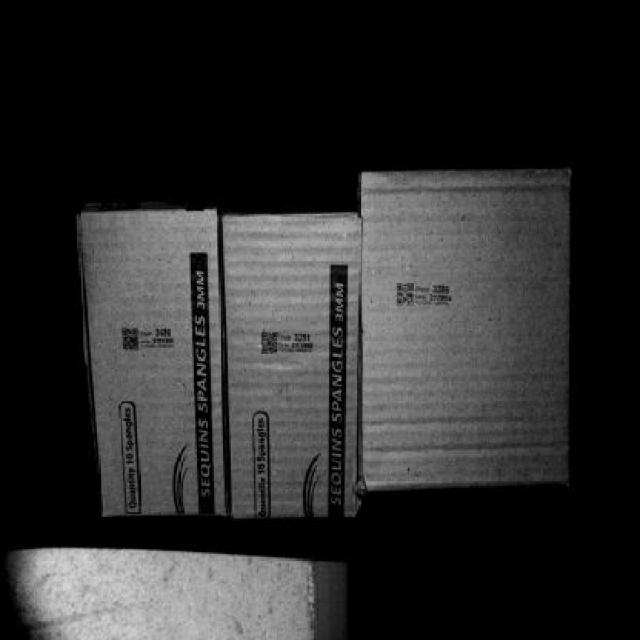cardboxes: (365, 173, 577, 482), (81, 217, 225, 518), (227, 218, 361, 517)
